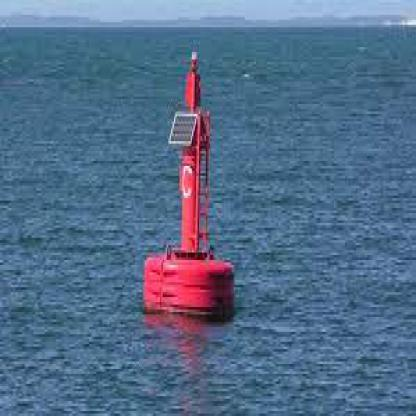buoy: (136, 42, 245, 342)
